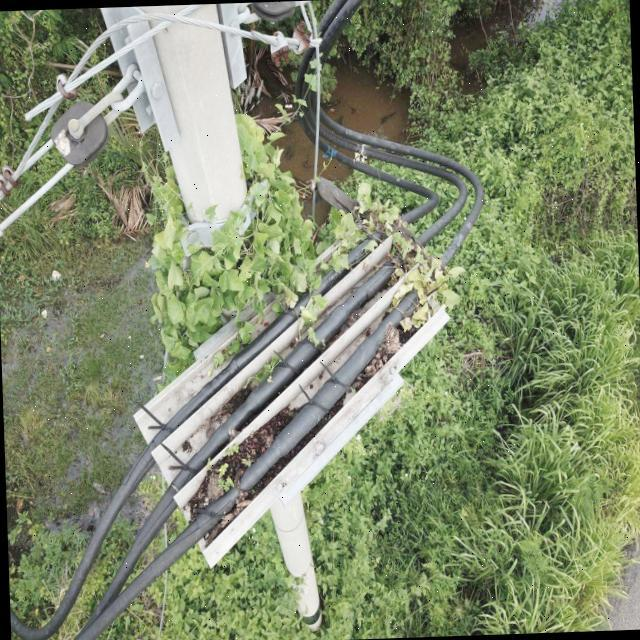critical vegetation: (124, 92, 471, 374)
